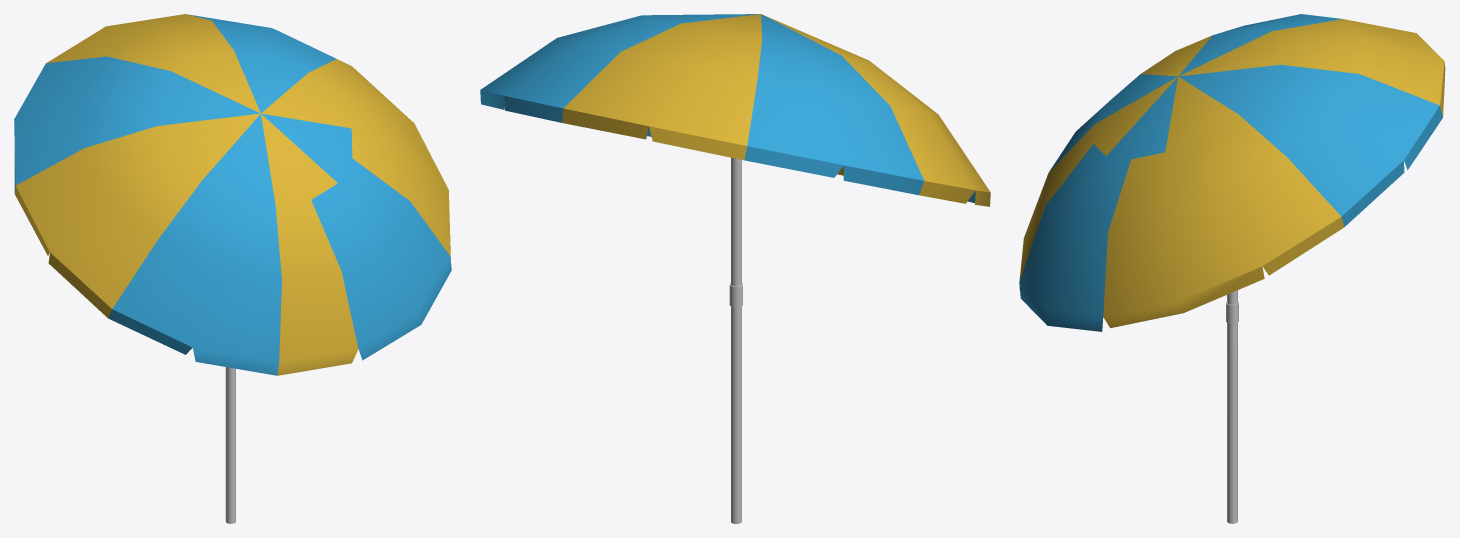
File: umbrella-sky.glb
The picture shows the model from 3 angles, left to right: view 1: azimuth 30°, elevation 25°; view 2: azimuth 150°, elevation 25°; view 3: azimuth 270°, elevation 25°; orthographic projection. The views are drawn at different scales.
Visible parts, largest first — view 1: umbrella-sky; view 2: umbrella-sky; view 3: umbrella-sky.
Part boxes in pixels (x1=…): umbrella-sky: x1=14, y1=14, x2=451, y2=523; umbrella-sky: x1=480, y1=14, x2=990, y2=523; umbrella-sky: x1=1019, y1=14, x2=1445, y2=523.
Size of the model in its own units: 2.47 by 2.7 by 2.2.
